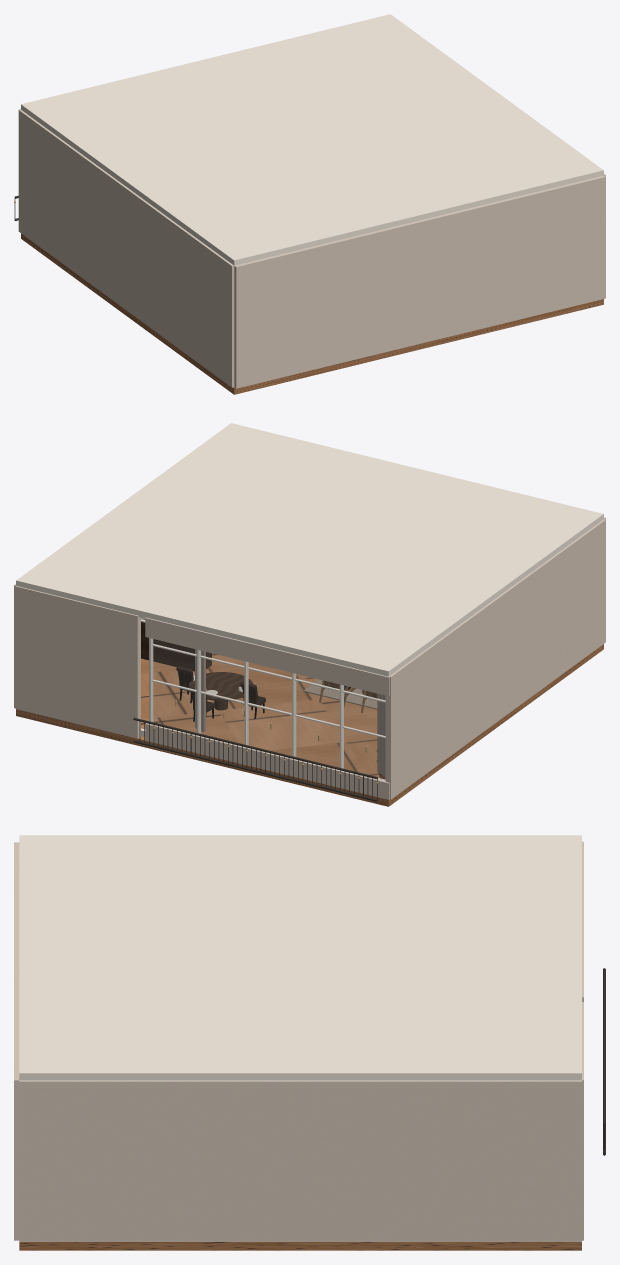
Rendered from apartment.glb.
The picture shows the model from 3 angles, top to bottom: view 1: azimuth 30°, elevation 25°; view 2: azimuth 150°, elevation 25°; view 3: azimuth 270°, elevation 25°; orthographic projection. The views are drawn at different scales.
Visible parts, largest first — view 1: Warm plaster ceiling, Entrance wall, Left apartment wall, Solid herringbone oak floor; view 2: Warm plaster ceiling, Left apartment wall, Solid herringbone oak floor, Kitchen-side window wall, Window upper transom, Window lower sill, French door glazing.001, French door glazing.002, French door glazing.003, French door glazing.004, French door glazing, back counter cupboard (+4 smaller); view 3: Warm plaster ceiling, Right apartment wall, Solid herringbone oak floor, Entrance wall.
Part boxes in pixels (x1,y1,x2,y2): Warm plaster ceiling: (21, 14, 603, 265); Entrance wall: (234, 175, 605, 388); Left apartment wall: (18, 109, 234, 387); Solid herringbone oak floor: (21, 233, 603, 394); Warm plaster ceiling: (16, 423, 603, 676); Left apartment wall: (385, 519, 605, 799); Solid herringbone oak floor: (16, 644, 603, 806); Kitchen-side window wall: (15, 586, 140, 738); Window upper transom: (145, 617, 389, 696); Window lower sill: (145, 723, 389, 799); French door glazing.001: (294, 674, 338, 766); French door glazing.002: (247, 662, 291, 755); French door glazing.003: (199, 651, 243, 743); French door glazing.004: (151, 639, 195, 731); French door glazing: (342, 685, 384, 779); back counter cupboard: (141, 622, 211, 671); Warm plaster ceiling: (19, 835, 581, 1080); Right apartment wall: (19, 1080, 581, 1241); Solid herringbone oak floor: (19, 1242, 581, 1250); Entrance wall: (14, 842, 19, 1240).
Size of the model in its own units: 14.16 by 4.86 by 14.73.
25 materials, 16 textured.
